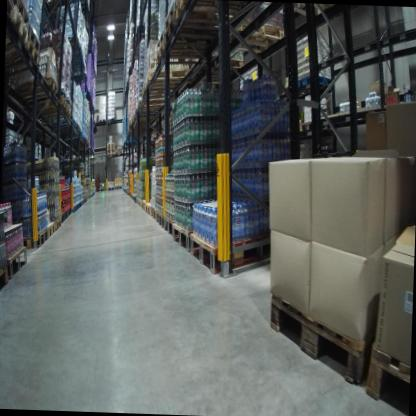pallet: (266, 282, 370, 398), (190, 211, 298, 279), (21, 77, 192, 108), (361, 345, 411, 416), (164, 2, 242, 47), (229, 17, 289, 57), (155, 34, 223, 69), (5, 37, 45, 83), (199, 58, 246, 86), (145, 64, 190, 92), (293, 71, 337, 98), (10, 3, 29, 60), (18, 223, 49, 255), (4, 245, 31, 278), (30, 95, 70, 117), (171, 217, 196, 252), (161, 1, 181, 40), (37, 104, 72, 126), (295, 113, 325, 137), (16, 0, 31, 36), (29, 18, 41, 50), (0, 267, 12, 293), (164, 211, 175, 238), (156, 203, 166, 228), (45, 221, 56, 240), (51, 217, 62, 233), (145, 202, 155, 217), (150, 205, 156, 225), (61, 209, 69, 223), (61, 213, 66, 225), (113, 185, 124, 190), (106, 186, 115, 191), (106, 150, 115, 154), (107, 148, 116, 152), (116, 150, 121, 157), (69, 206, 73, 214), (107, 145, 115, 149), (106, 153, 115, 156), (107, 143, 115, 146)
